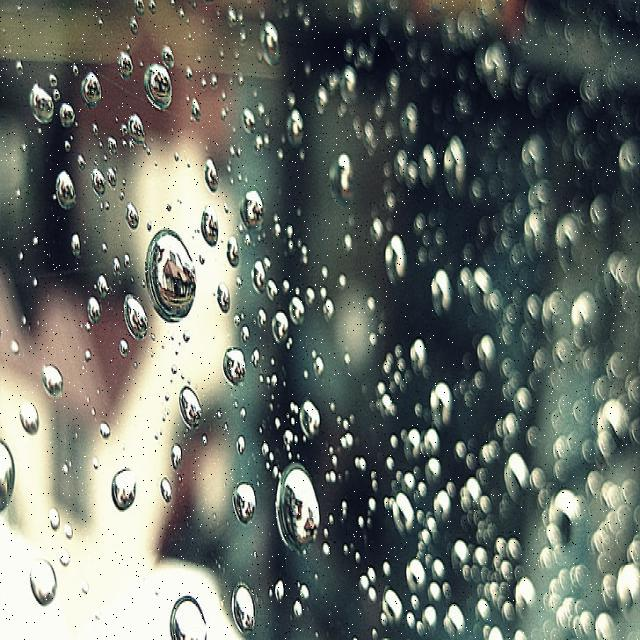raindrop: (270, 432, 330, 570), (139, 216, 197, 340), (156, 574, 216, 640), (98, 446, 140, 522), (138, 50, 178, 128), (222, 464, 262, 540), (0, 400, 20, 532)
